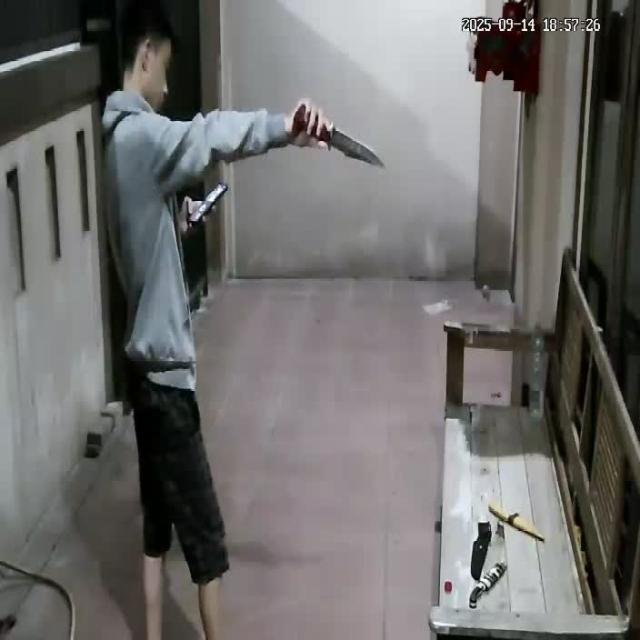senjata_tajam: (325, 125, 391, 172)
